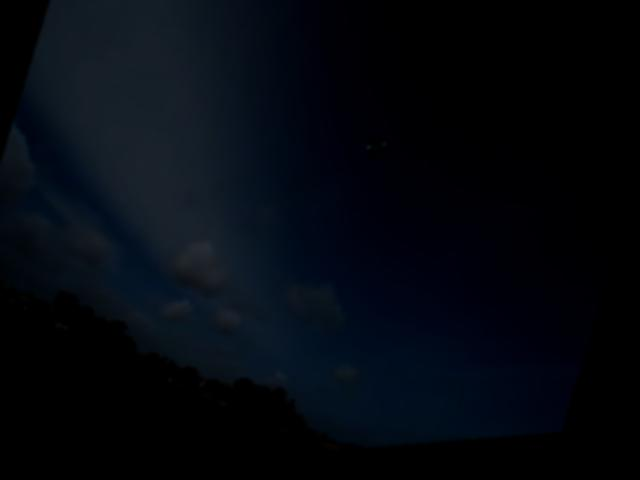uav: (360, 134, 399, 176)
